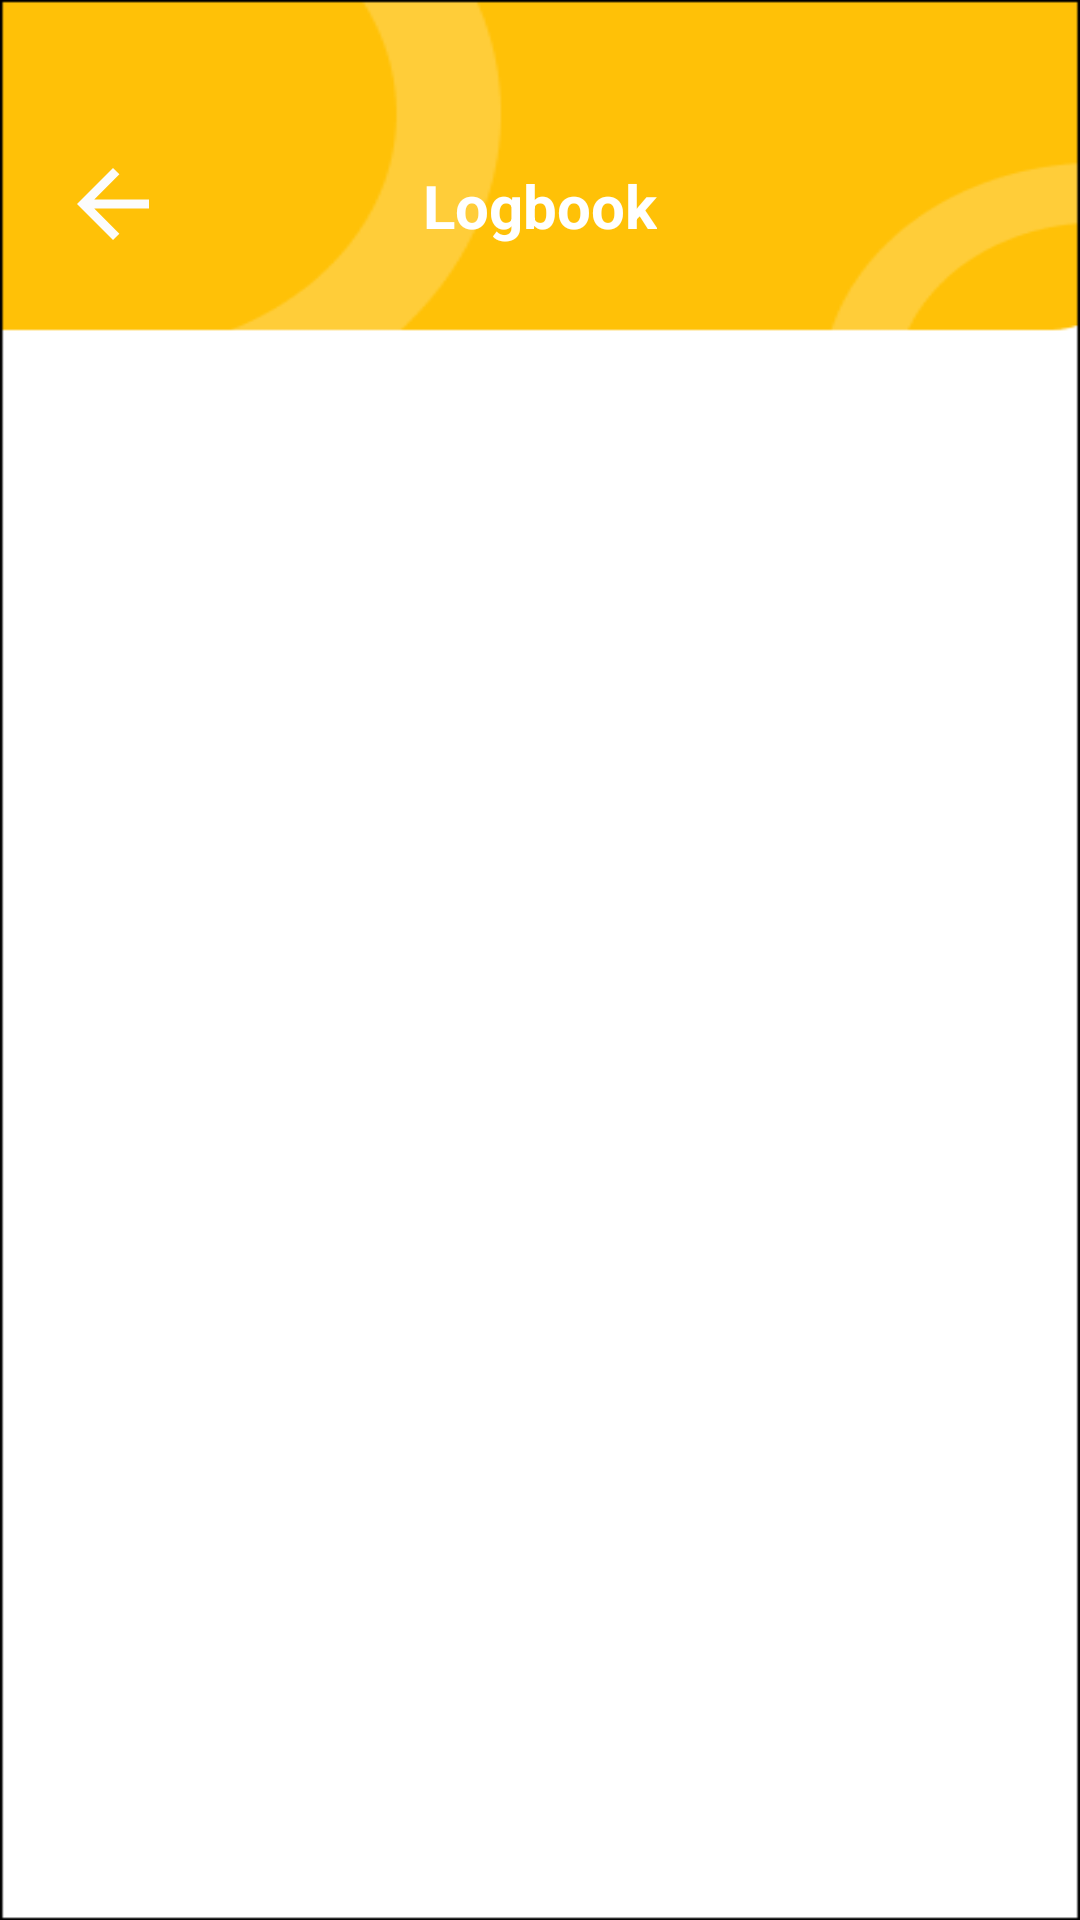

Icon bounding boxes for this 1080 × 1920 phone screenshot, format (x1=x1, y1=y1, x2=x2, y2=y2):
arrow left: (x1=77, y1=168, x2=149, y2=240)
